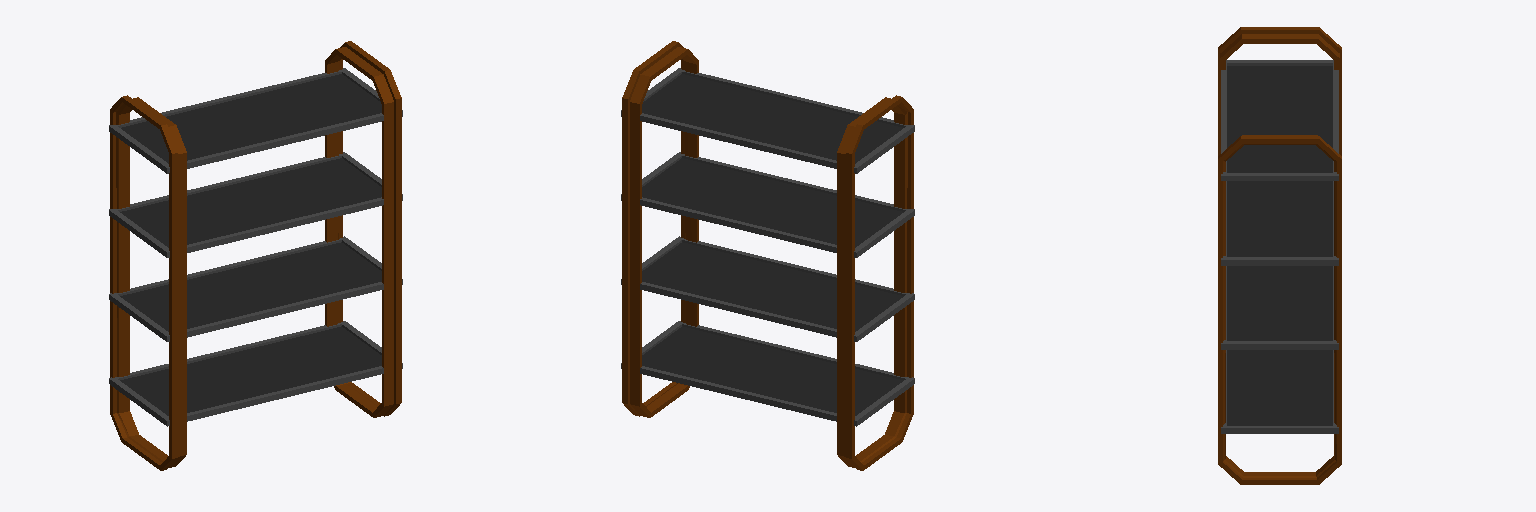
The model's file is Props_Shelf.obj.
The picture shows the model from 3 angles: view 1: azimuth 30°, elevation 25°; view 2: azimuth 150°, elevation 25°; view 3: azimuth 270°, elevation 25°; orthographic projection.
Parts seen in each view (by area): view 1: Props_Shelf_Cube.001; view 2: Props_Shelf_Cube.001; view 3: Props_Shelf_Cube.001.
Boxes of the visible parts, x1=… form: Props_Shelf_Cube.001: x1=109, y1=41, x2=402, y2=470; Props_Shelf_Cube.001: x1=621, y1=41, x2=914, y2=470; Props_Shelf_Cube.001: x1=1218, y1=27, x2=1341, y2=484.
Size of the model in its own units: 1.79 by 2.5 by 0.8108.